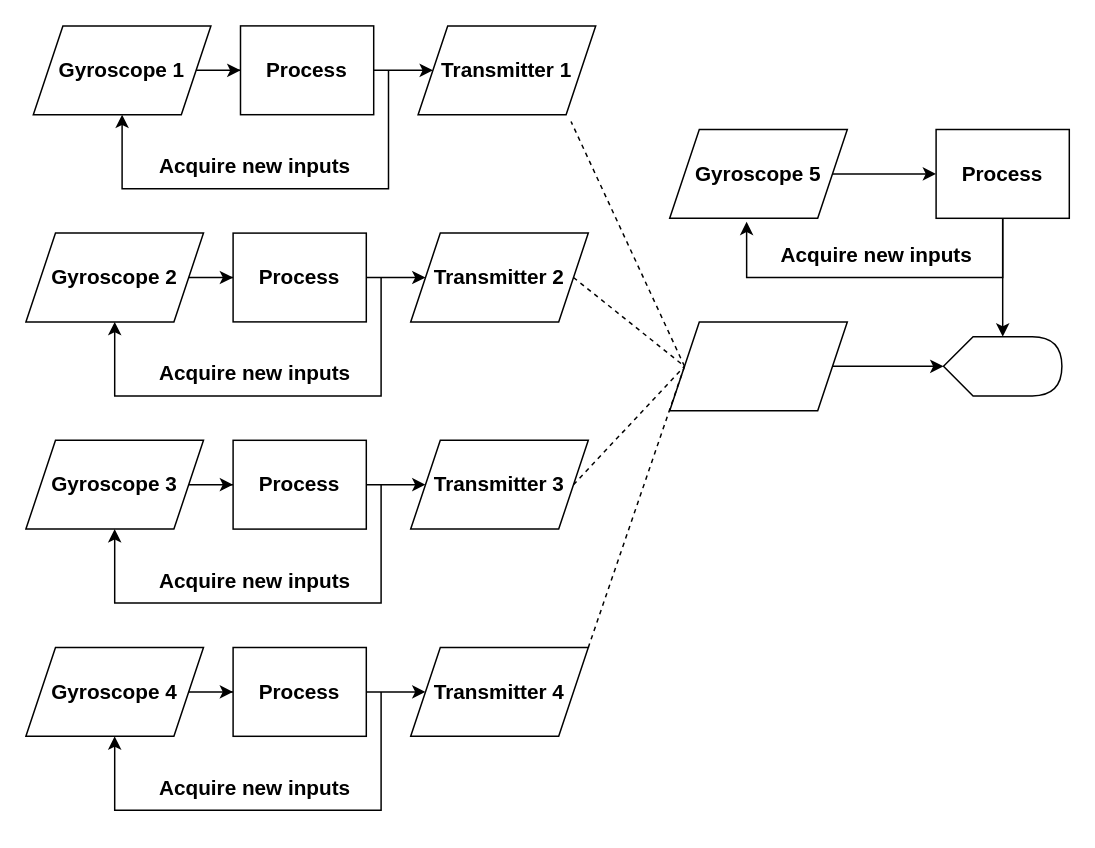
Some shapes in this 1095 by 848 pixel diagram are drawn without their labels. The centre of each missing label's shape, as x and y in pixels:
"Displ ay" goes at (1002,365).
"Resceiver" goes at (757,365).
